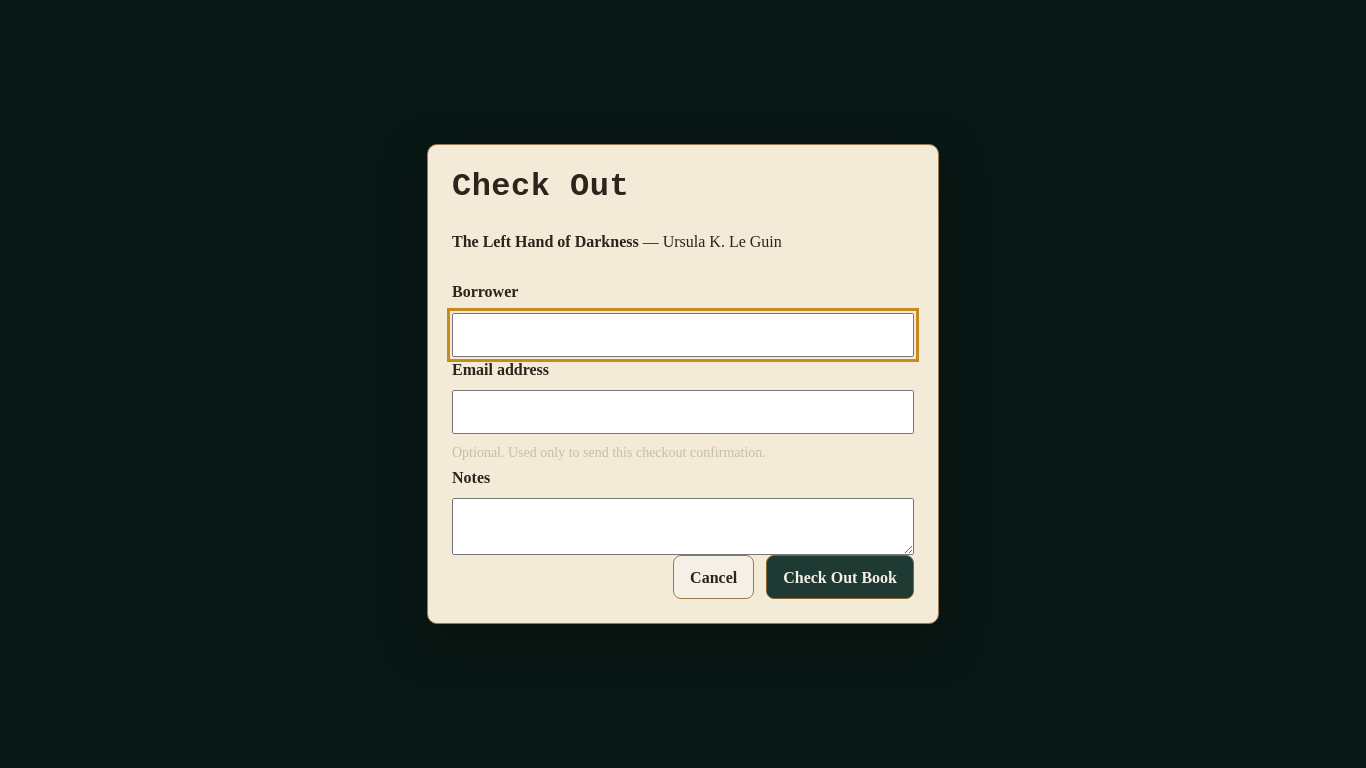
it: CheckoutDialog › maps borrower email validation errors from the API
Type "Jane Reader" into the field labelled "Borrower" at (683, 335), box [452, 313, 914, 357]
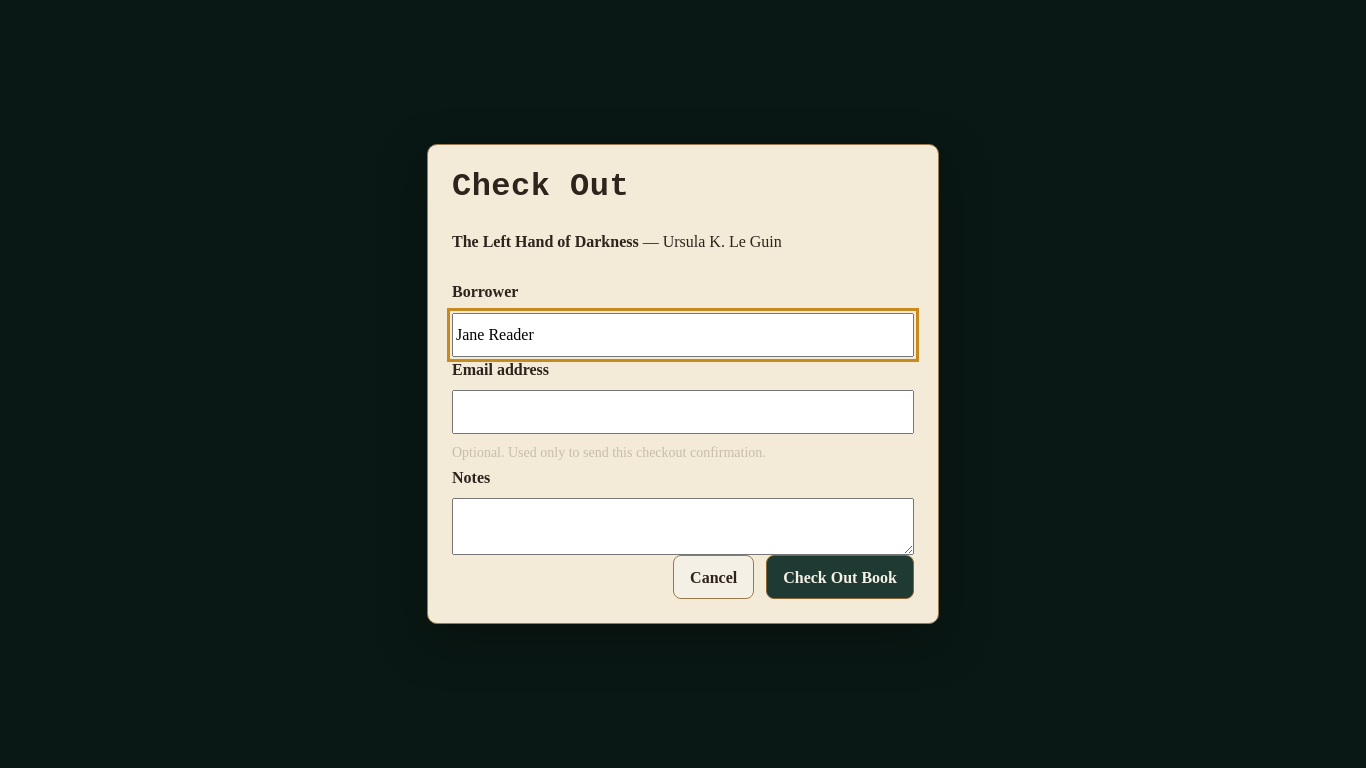
Type "jane@example.test" into the field labelled "Email address" at (683, 412), box [452, 390, 914, 434]
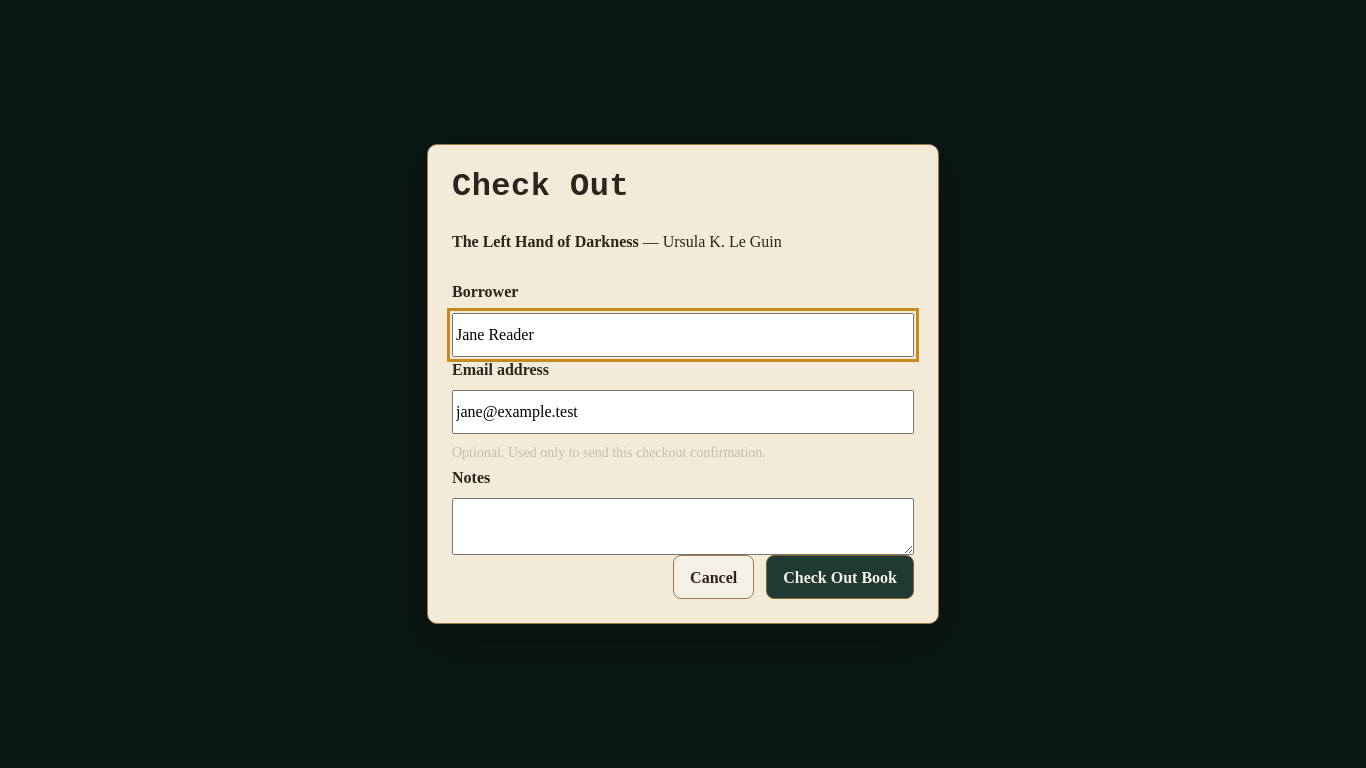
Click the button "Check Out Book" at (840, 577), box [766, 555, 914, 599]
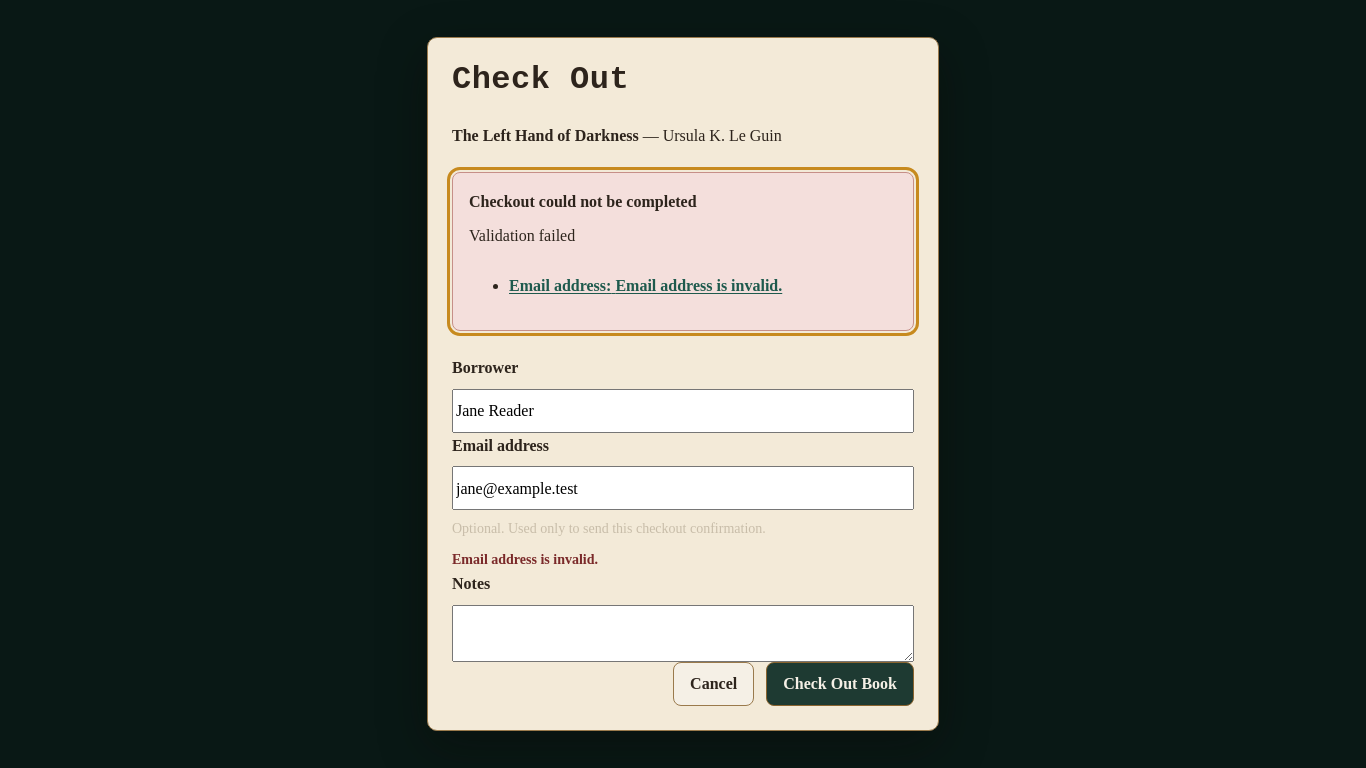
Now the text "Email address is invalid." is shown, box [452, 552, 598, 567]
